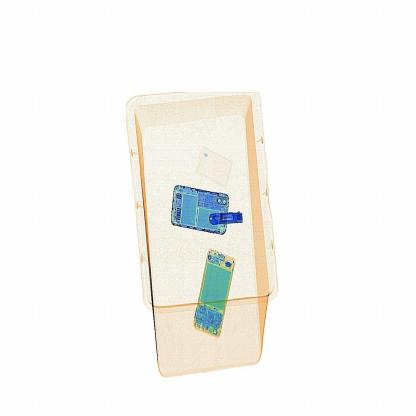knife: (203, 204, 258, 233)
